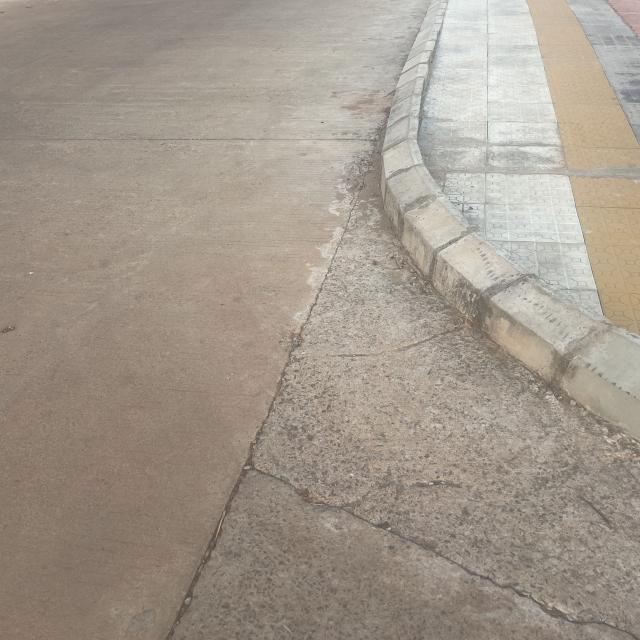D43: (82, 218, 402, 610)
